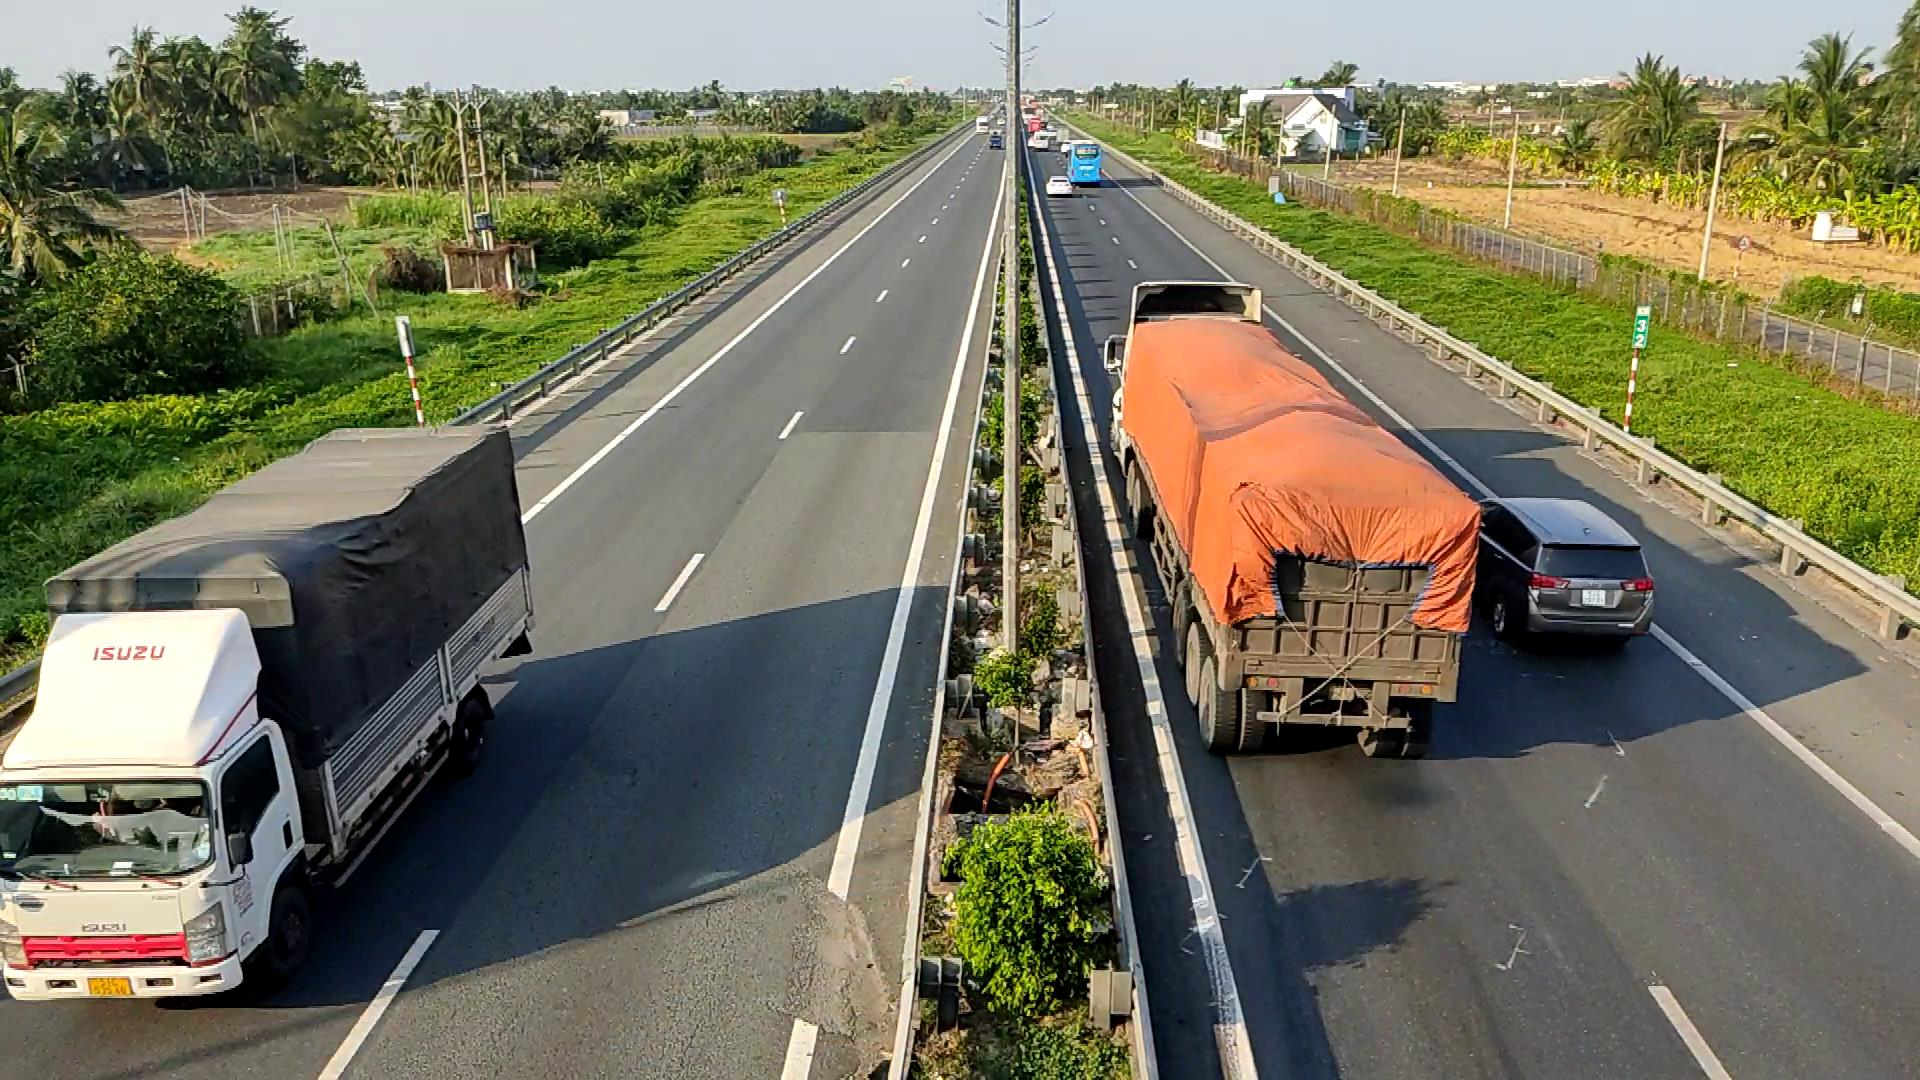car: (1472, 495, 1655, 647)
truck: (0, 419, 535, 1000), (1104, 278, 1482, 758)
